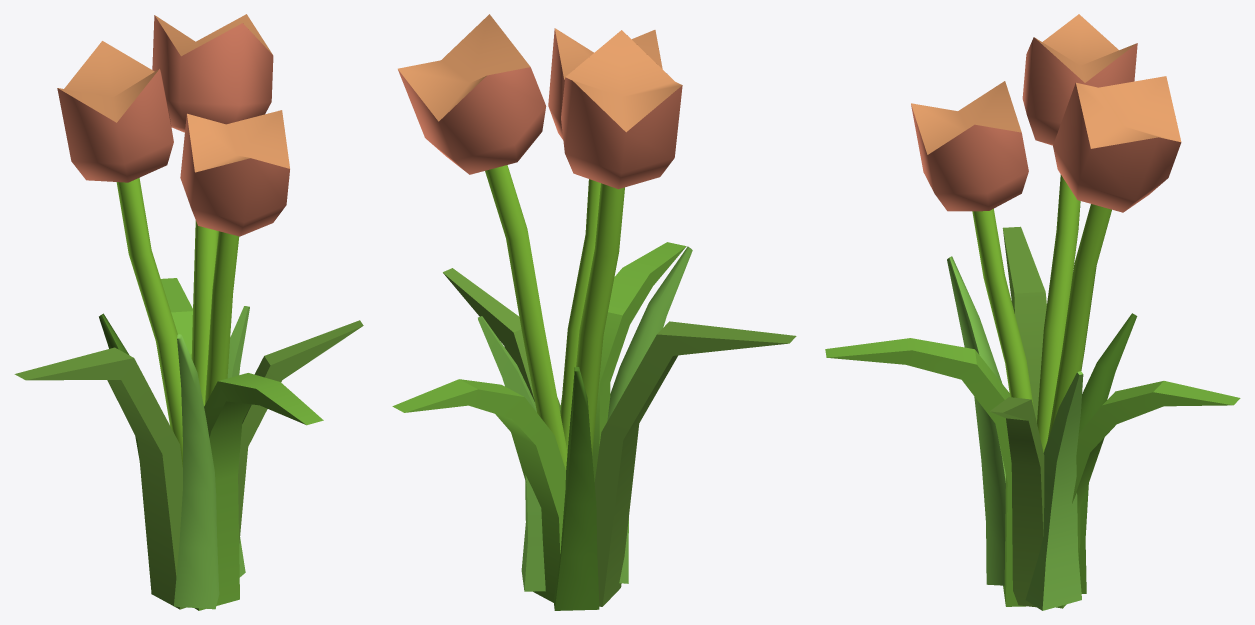
The model's file is Tulip_Orange_3.fbx.
3 views of the same model, side by side, from view 1: azimuth 30°, elevation 25°; view 2: azimuth 150°, elevation 25°; view 3: azimuth 270°, elevation 25° (orthographic). The views are drawn at different scales.
Parts seen in each view (by area): view 1: Cube.175, Cylinder.674, Cube.173, Cube.177, Cylinder.671, Cylinder.677, Cylinder.670, Cylinder.676, Cylinder.672, Cube.174, Cylinder.678, Cylinder.675 (+4 smaller); view 2: Cube.175, Cylinder.674, Cylinder.671, Cube.176, Cube.178, Cylinder.675, Cylinder.672, Cylinder.673, Cylinder.670, Cube.177, Cube.172, Cube.173 (+4 smaller); view 3: Cube.172, Cylinder.674, Cylinder.677, Cube.177, Cube.174, Cylinder.673, Cube.173, Cylinder.670, Cube.176, Cylinder.671, Cylinder.675, Cylinder.678 (+4 smaller).
Boxes of the visible parts, x1=… form: Cube.175: x1=14, y1=347, x2=186, y2=609; Cylinder.674: x1=152, y1=15, x2=273, y2=132; Cube.173: x1=174, y1=334, x2=219, y2=609; Cube.177: x1=194, y1=373, x2=323, y2=610; Cylinder.671: x1=57, y1=69, x2=173, y2=182; Cylinder.677: x1=180, y1=114, x2=289, y2=236; Cylinder.670: x1=116, y1=178, x2=182, y2=466; Cylinder.676: x1=187, y1=110, x2=289, y2=172; Cylinder.672: x1=58, y1=41, x2=159, y2=122; Cube.174: x1=238, y1=320, x2=363, y2=543; Cylinder.678: x1=205, y1=231, x2=239, y2=404; Cylinder.675: x1=191, y1=220, x2=218, y2=406; Cube.175: x1=594, y1=321, x2=796, y2=606; Cylinder.674: x1=398, y1=67, x2=546, y2=174; Cylinder.671: x1=561, y1=35, x2=682, y2=189; Cube.176: x1=392, y1=379, x2=565, y2=602; Cube.178: x1=554, y1=367, x2=599, y2=610; Cylinder.675: x1=485, y1=165, x2=567, y2=469; Cylinder.672: x1=565, y1=30, x2=682, y2=132; Cylinder.673: x1=398, y1=14, x2=530, y2=121; Cylinder.670: x1=576, y1=183, x2=624, y2=455; Cube.177: x1=560, y1=242, x2=686, y2=481; Cube.172: x1=478, y1=316, x2=545, y2=591; Cube.173: x1=607, y1=246, x2=692, y2=583; Cube.172: x1=1025, y1=371, x2=1083, y2=610; Cylinder.674: x1=1053, y1=83, x2=1181, y2=212; Cylinder.677: x1=911, y1=104, x2=1028, y2=211; Cube.177: x1=825, y1=338, x2=1025, y2=606; Cube.174: x1=990, y1=397, x2=1044, y2=607; Cylinder.673: x1=1076, y1=76, x2=1181, y2=148; Cube.173: x1=947, y1=256, x2=1005, y2=585; Cylinder.670: x1=1037, y1=174, x2=1080, y2=452; Cube.176: x1=1056, y1=381, x2=1240, y2=608; Cylinder.671: x1=1022, y1=37, x2=1137, y2=145; Cylinder.675: x1=1047, y1=204, x2=1111, y2=439; Cylinder.678: x1=972, y1=208, x2=1033, y2=408.
Size of the model in its own units: 91.67 by 141 by 97.82.
